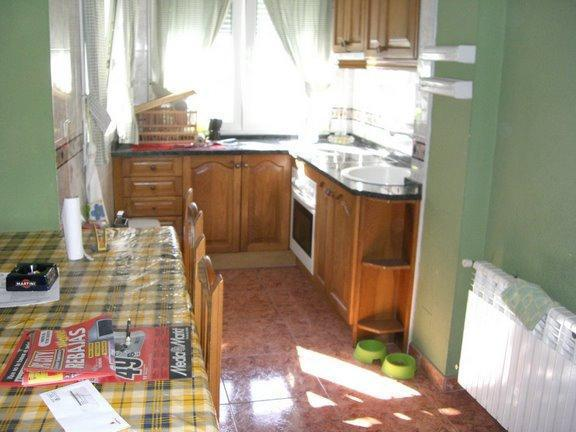Armario: (188, 150, 291, 251), (317, 178, 356, 315), (113, 153, 180, 221)
Electrodomestico: (289, 168, 316, 270)
Otro Obstaculo: (460, 259, 572, 428)
